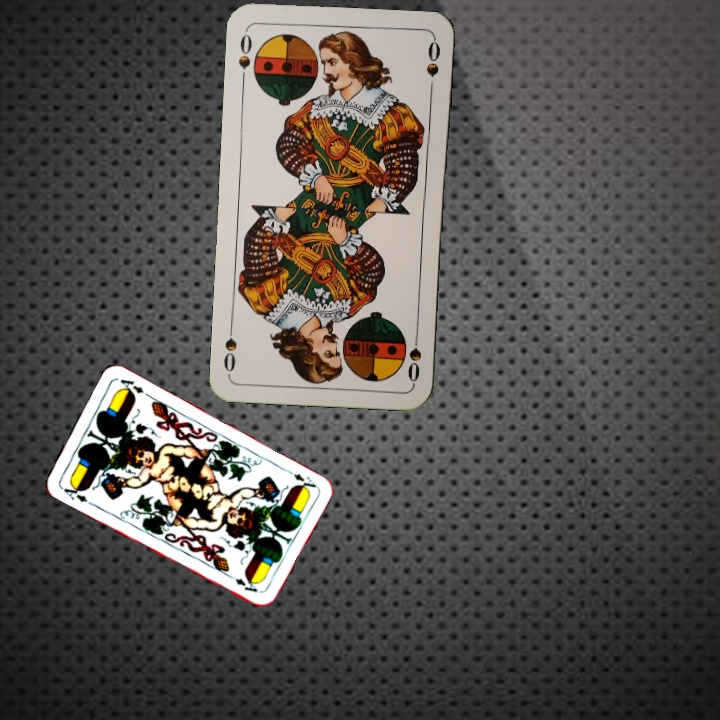EA: (281, 465, 319, 494), (57, 478, 90, 505)
SO: (403, 326, 424, 385), (234, 27, 255, 86)
